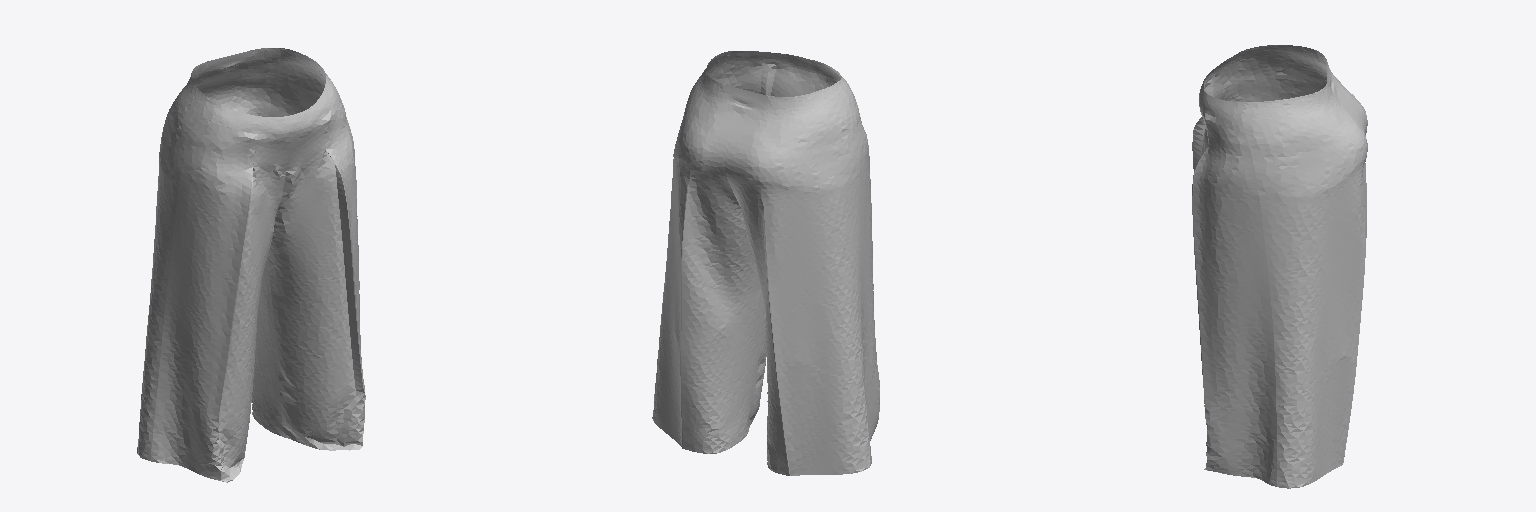
The model's file is Large_Average.obj.
3 renders of one model, left to right at view 1: azimuth 30°, elevation 25°; view 2: azimuth 150°, elevation 25°; view 3: azimuth 270°, elevation 25°, orthographic.
Visible parts, largest first — view 1: changku.004; view 2: changku.004; view 3: changku.004.
Part boxes in pixels (x1,y1,x2,y2): changku.004: (137,48,365,482); changku.004: (652,51,879,475); changku.004: (1192,45,1367,488).
Size of the model in its own units: 0.5873 by 0.9545 by 0.4118.